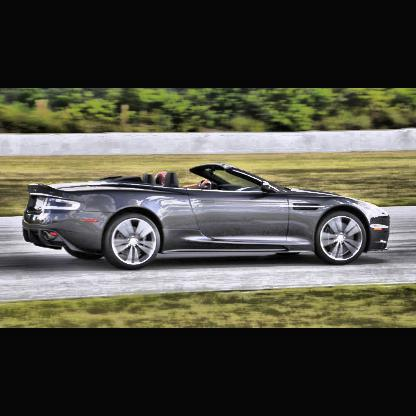Aston Martin Virage Convertible 2012: (22, 163, 392, 270)
